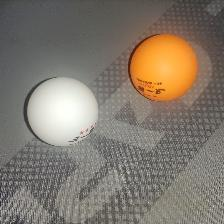WhiteBall: (25, 75, 98, 147)
YellowBall: (128, 33, 197, 102)
